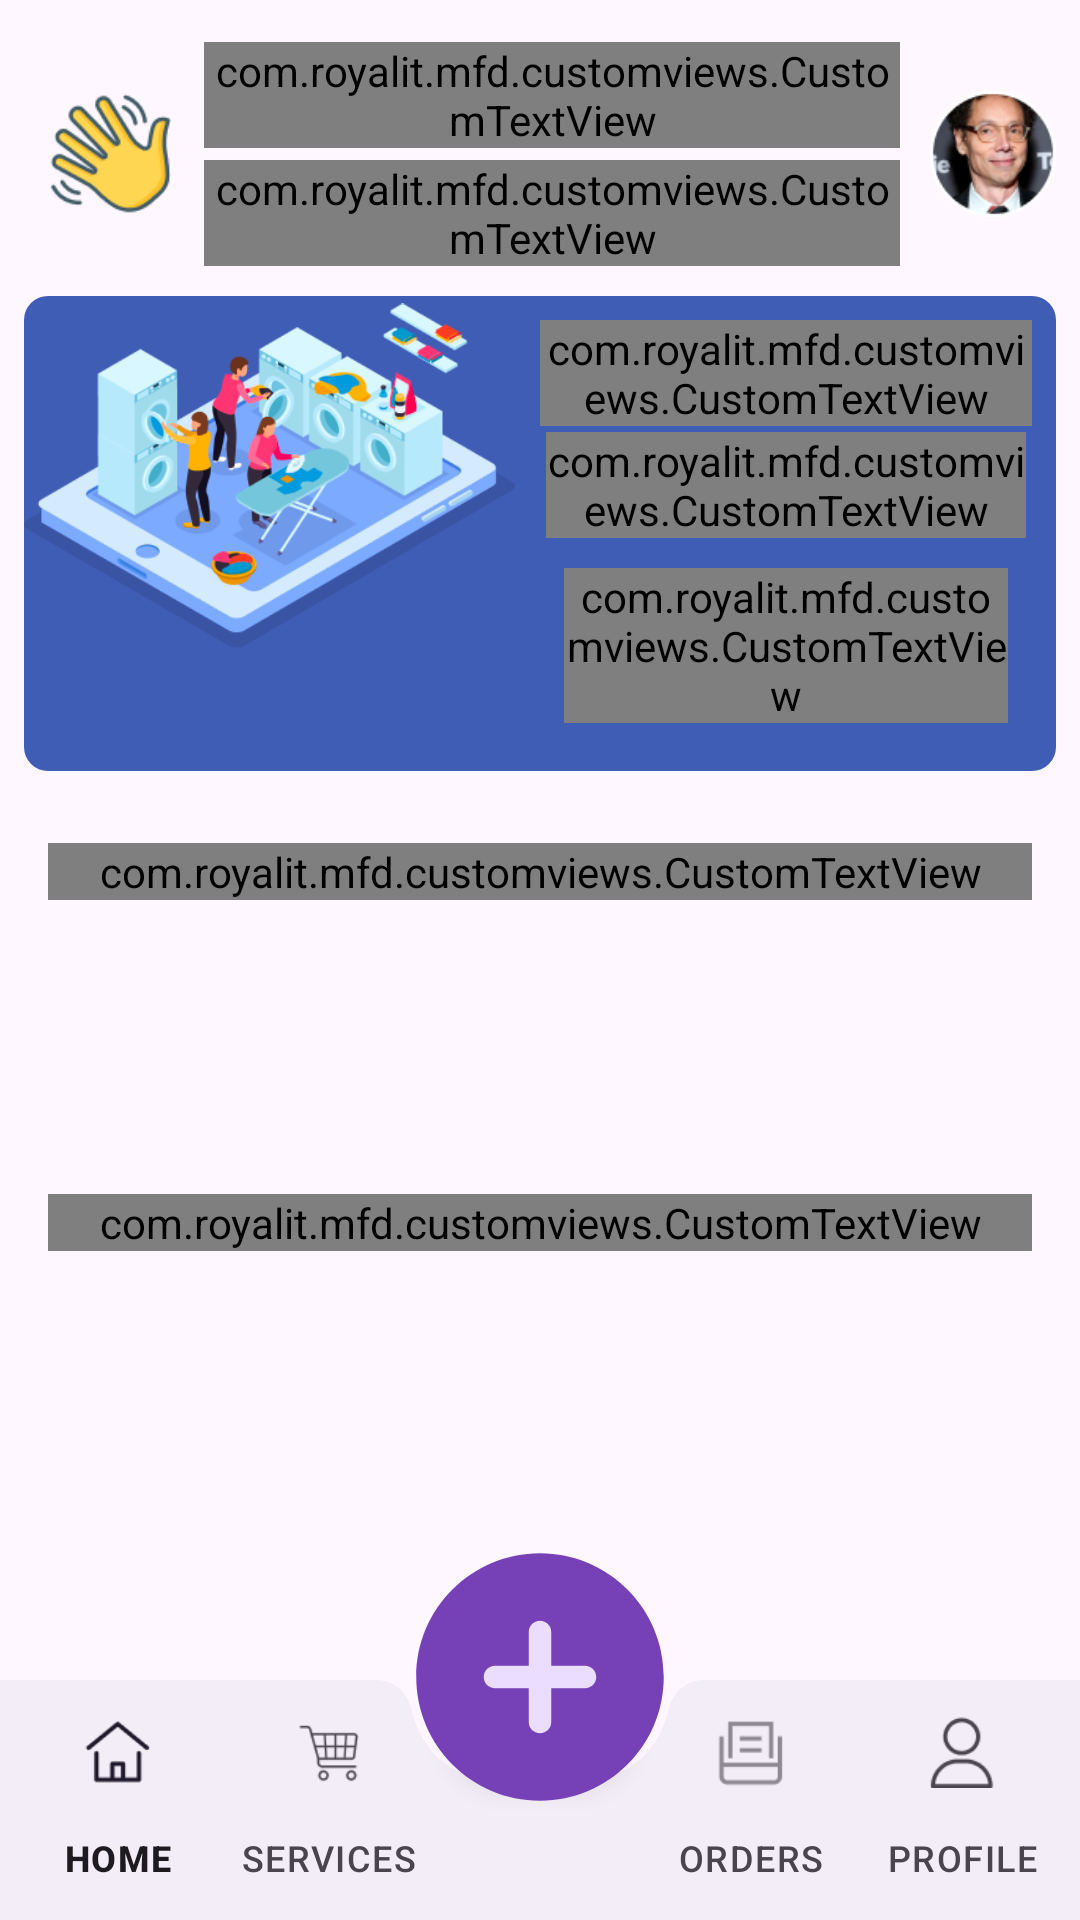

Point at icon controls on the screen. Image size 1080 x 1920, points as [x,y].
plus: [540,1677]
